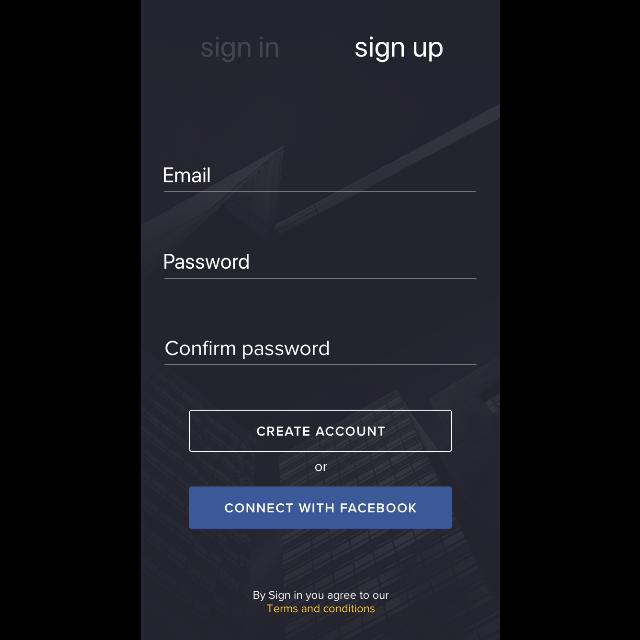backgroundimage: (140, 1, 500, 640)
input: (164, 340, 476, 366), (163, 168, 475, 192), (164, 254, 476, 278)
text: (253, 590, 389, 614), (165, 341, 329, 359), (356, 37, 442, 63), (200, 37, 278, 63), (164, 253, 248, 269), (163, 168, 209, 184), (315, 464, 327, 472)
textbutton: (188, 410, 452, 452), (188, 487, 452, 529)
